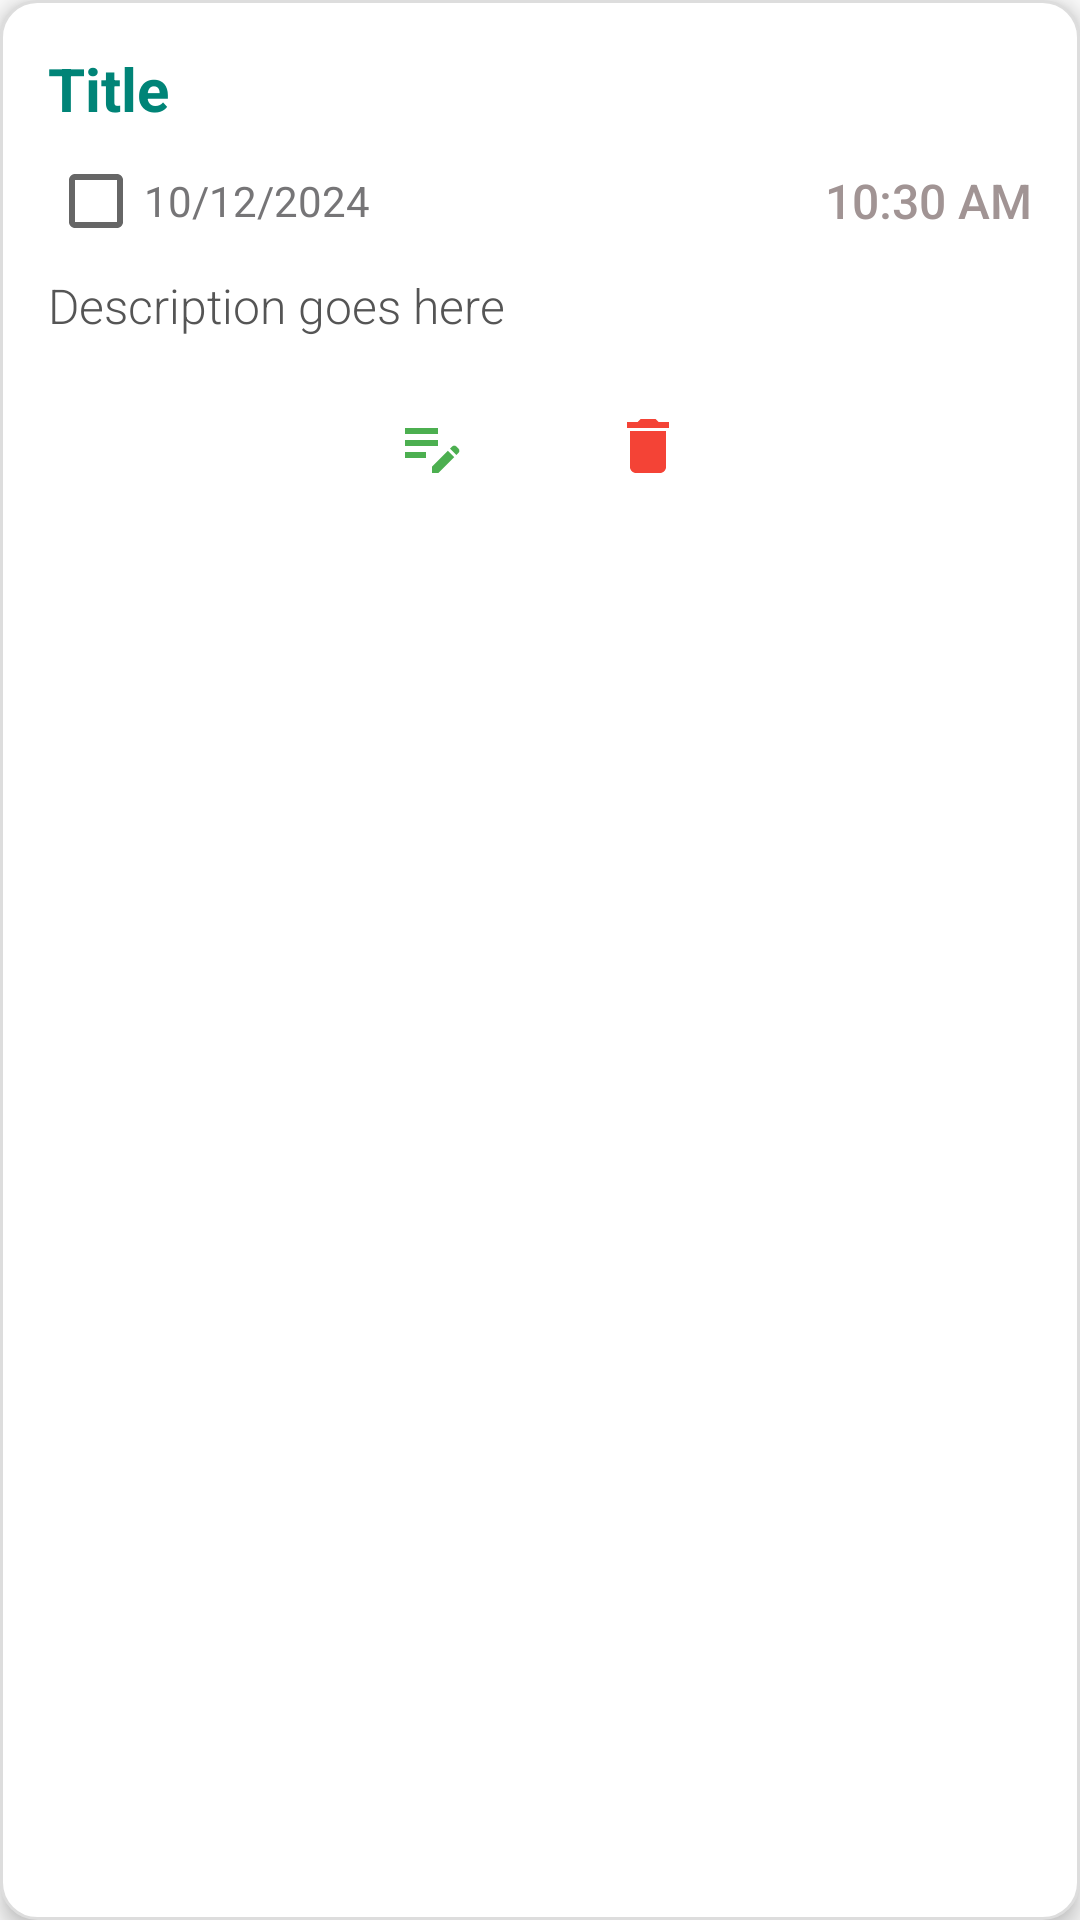

Screen size 1080*1920. Icon name, then its center in pixels as (x=x, y=y):
delete: (x=648, y=446)
edit: (x=432, y=450)
